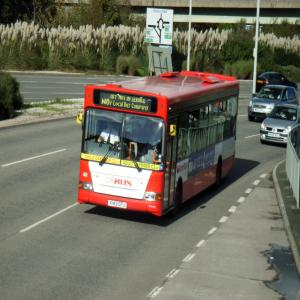Vehicle-registration-plate: (108, 201, 127, 209), (269, 134, 280, 138)
